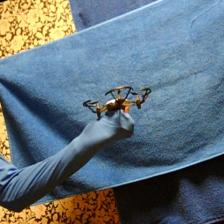drone: (82, 84, 152, 119)
